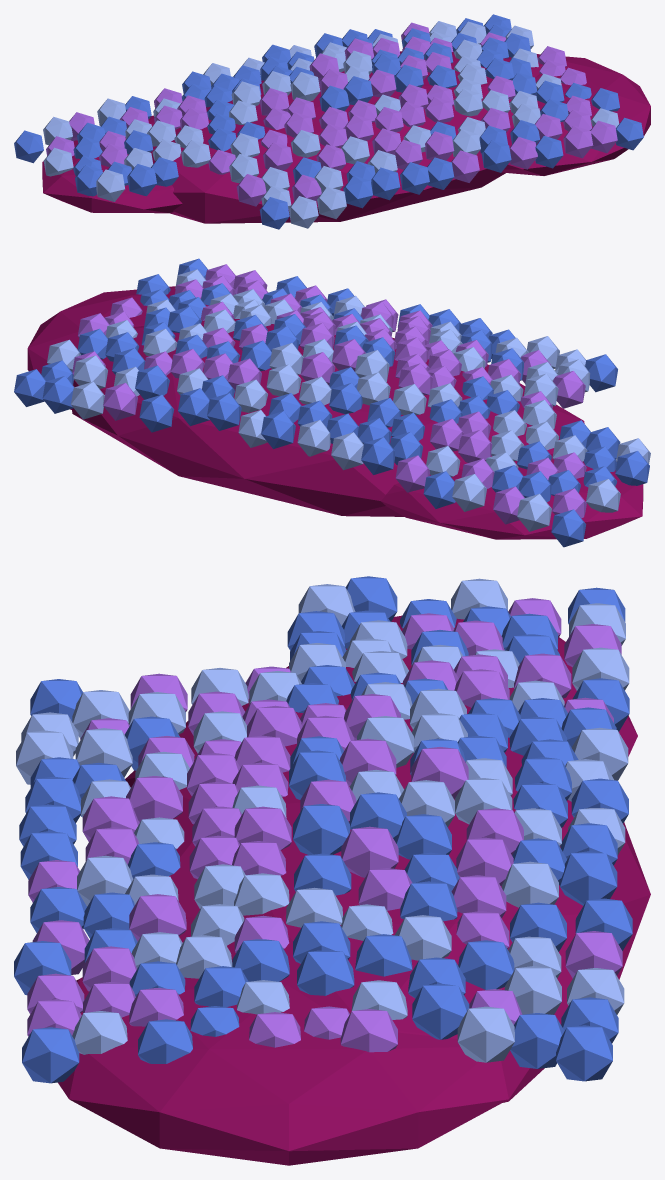
Rendered from pit.glb.
The picture shows the model from 3 angles, top to bottom: view 1: azimuth 30°, elevation 25°; view 2: azimuth 150°, elevation 25°; view 3: azimuth 270°, elevation 25°; orthographic projection. The views are drawn at different scales.
Parts seen in each view (by area): view 1: P0, P2, P1, Heap0, Heap2, Heap1; view 2: P0, P1, P2, Heap0, Heap1, Heap2; view 3: P0, P1, P2, Heap2, Heap0, Heap1.
Part boxes in pixels (box(x1,y1,x2,y2)): P0: box(14, 14, 643, 229); P2: box(46, 22, 617, 206); P1: box(43, 21, 619, 228); Heap0: box(150, 51, 542, 223); Heap2: box(501, 54, 650, 175); Heap1: box(42, 115, 182, 213); P0: box(14, 258, 649, 547); P1: box(47, 269, 650, 531); P2: box(72, 264, 586, 524); Heap0: box(72, 318, 584, 516); Heap1: box(381, 454, 643, 539); Heap2: box(27, 286, 208, 409); P0: box(14, 576, 632, 1083); P1: box(16, 578, 629, 1062); P2: box(27, 598, 622, 1052); Heap2: box(58, 977, 529, 1165); Heap0: box(125, 665, 650, 1102); Heap1: box(286, 615, 637, 756).
Bounding box in the file's own units: 4.9 × 1 × 2.46.
